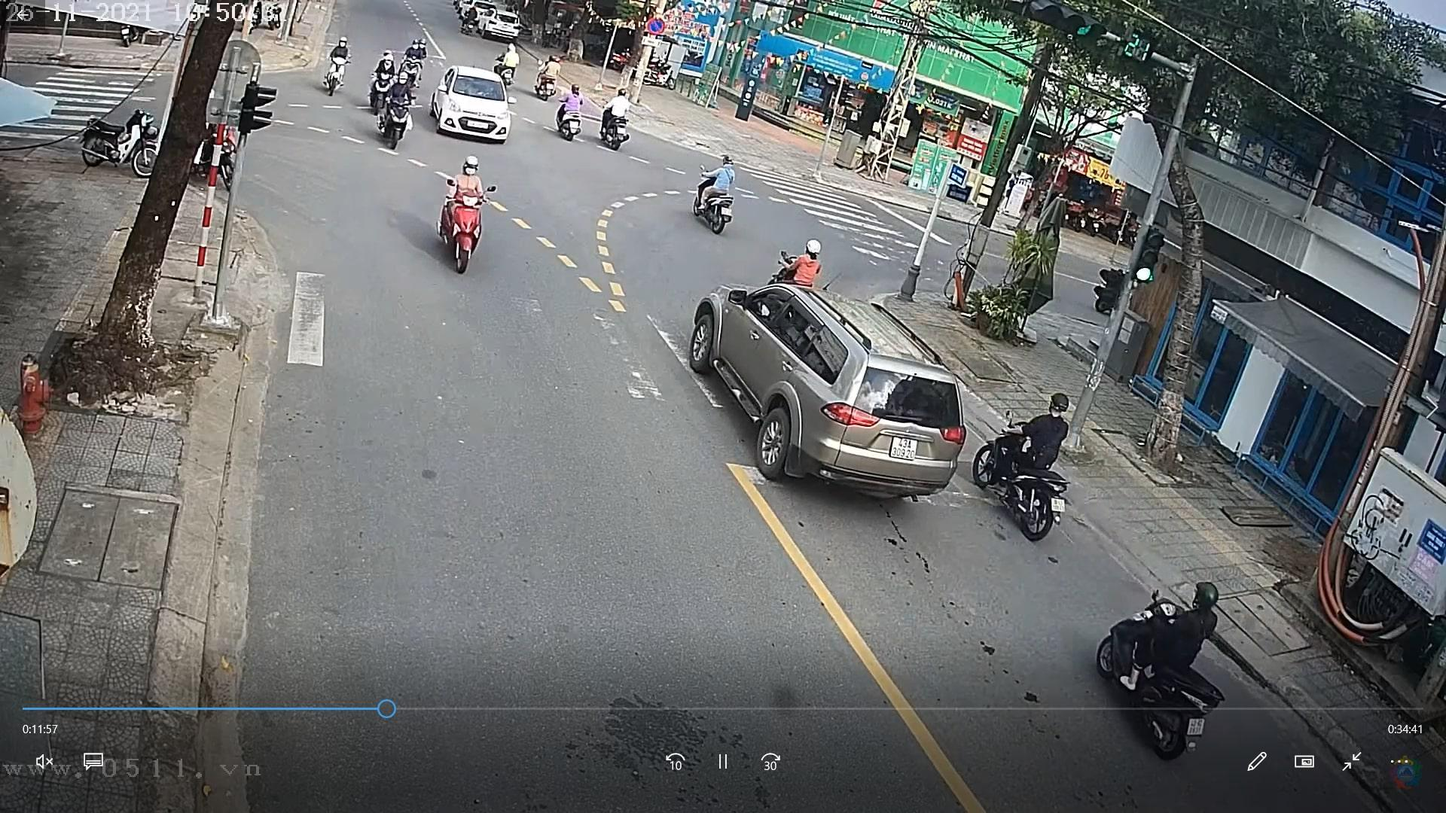car: (431, 65, 514, 143)
motorbike: (1093, 586, 1226, 765), (439, 178, 495, 278), (377, 81, 418, 151), (322, 47, 352, 103)
